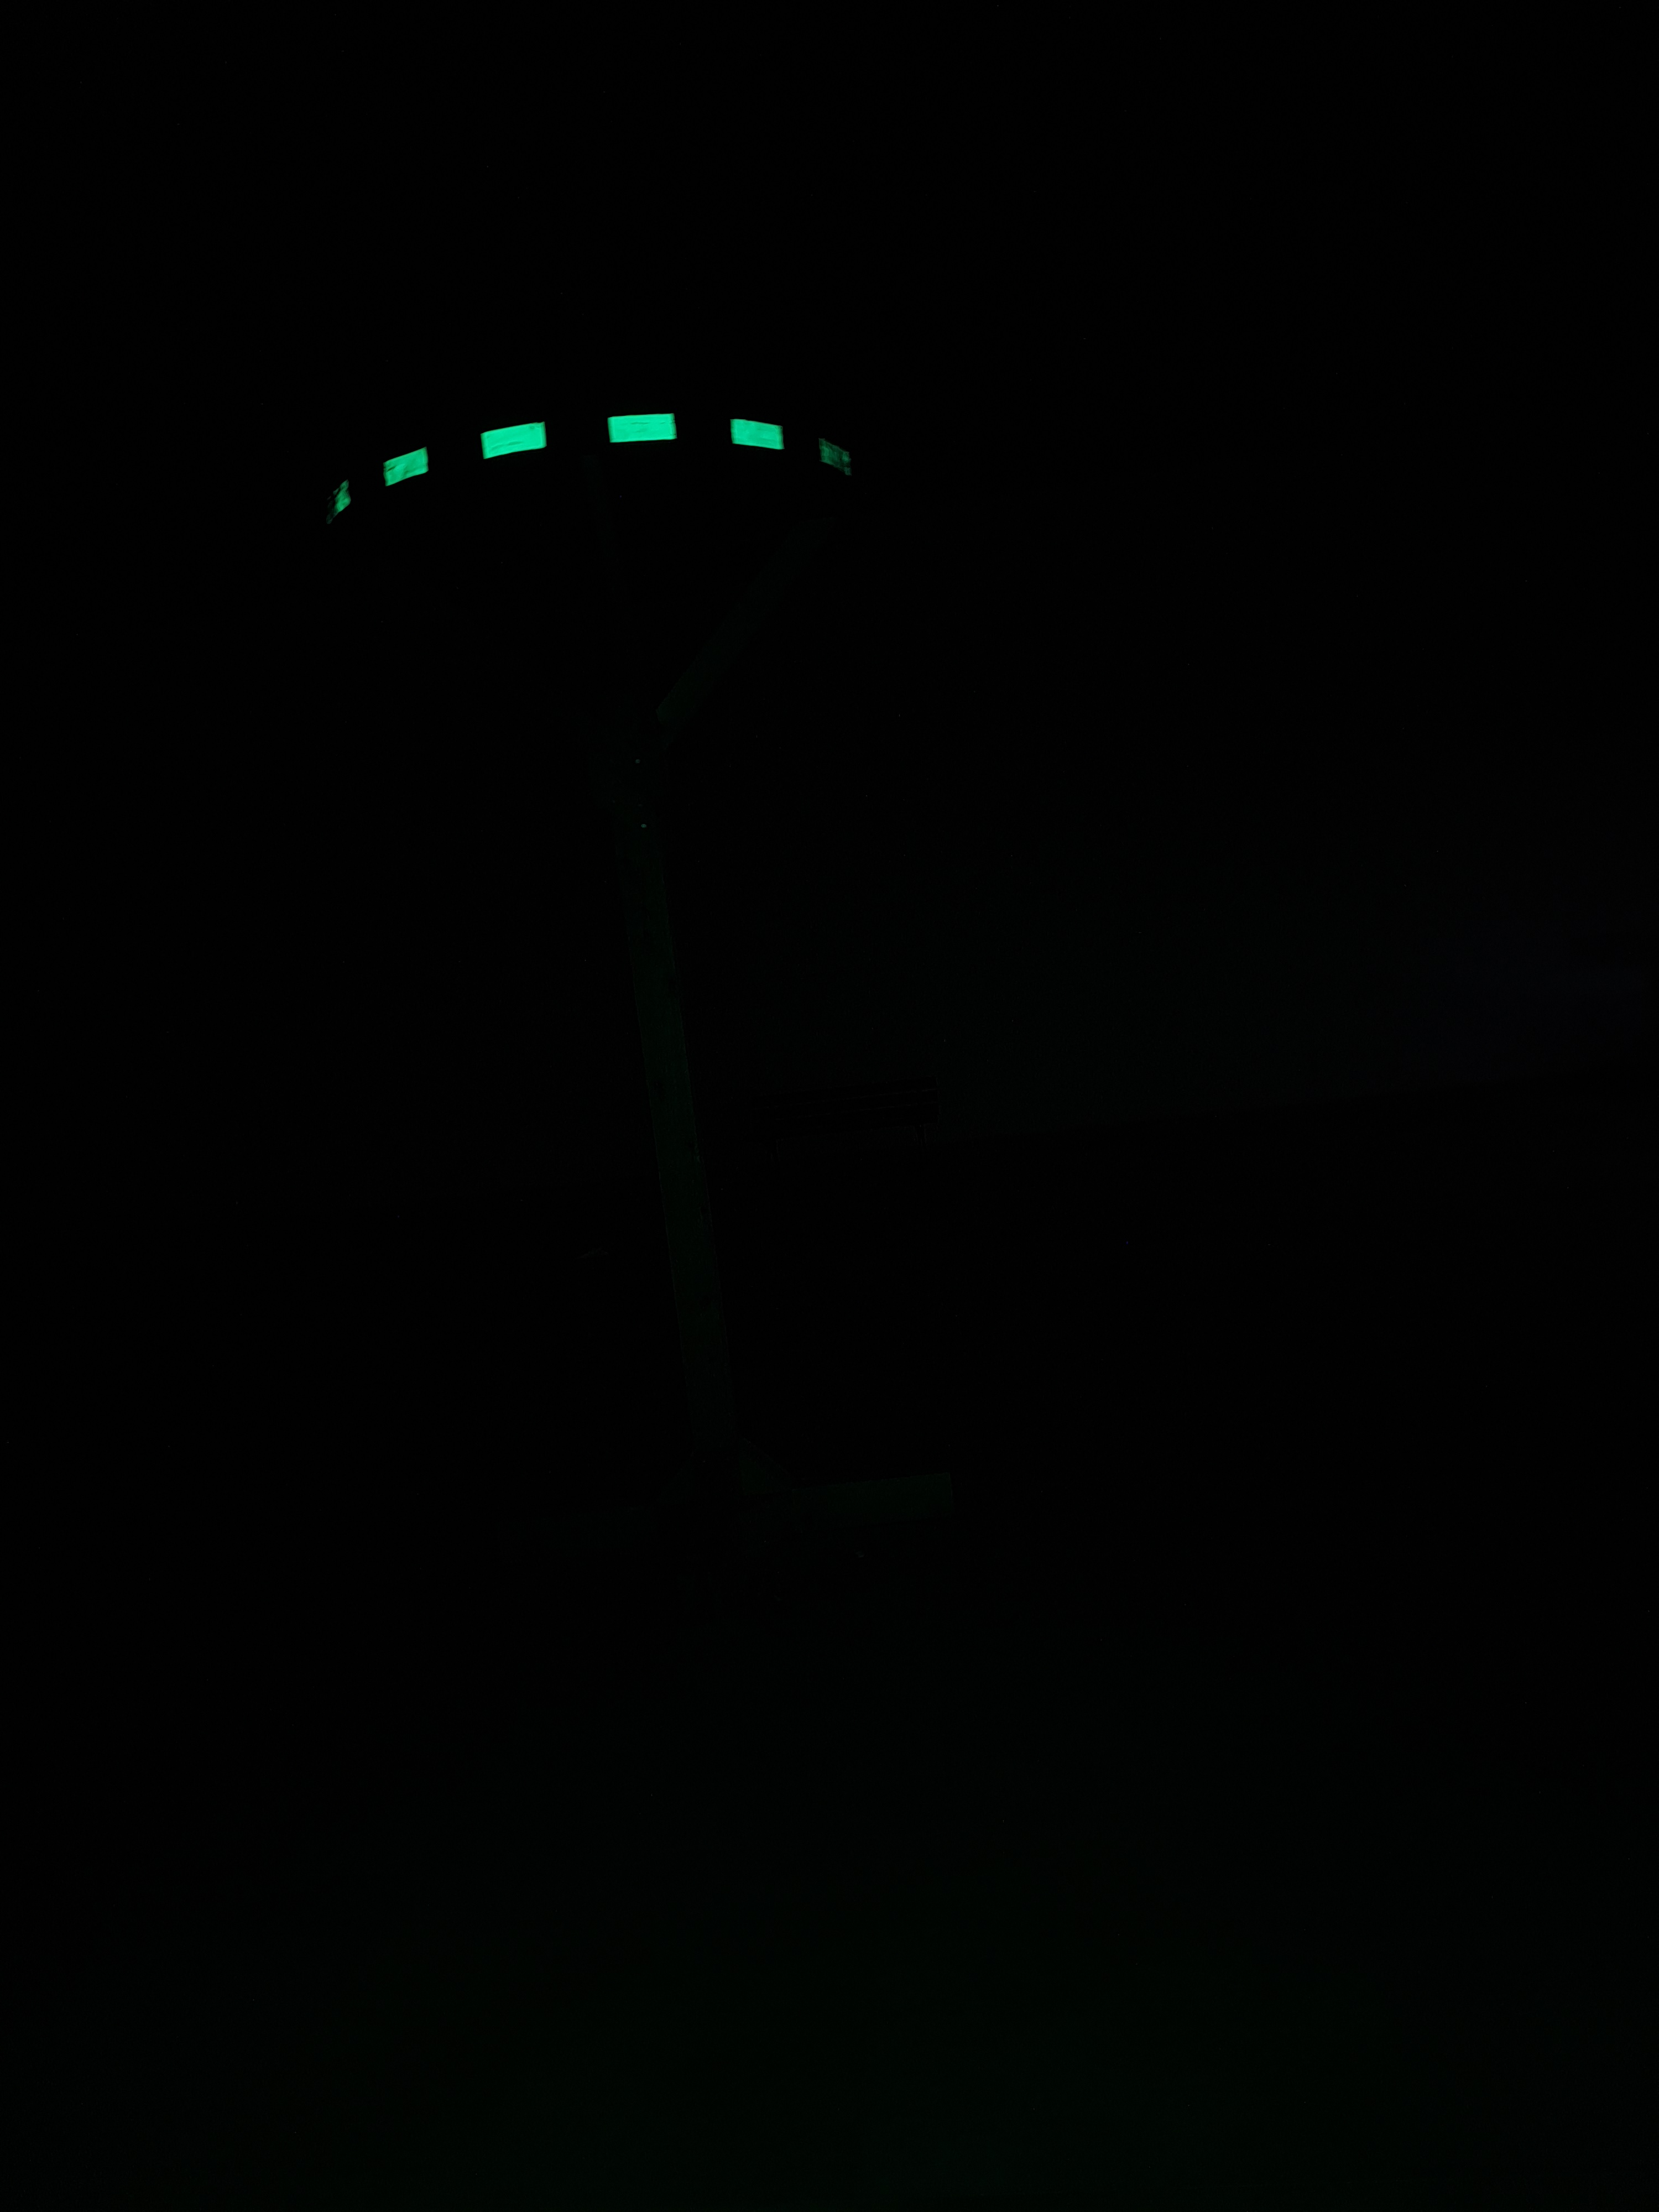hoop: (321, 409, 859, 529)
